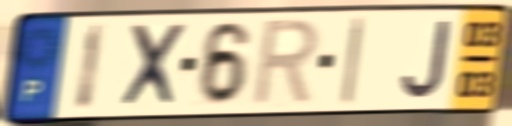6: (192, 20, 258, 110)
I: (73, 21, 108, 114), (338, 14, 368, 108)
J: (399, 17, 454, 102)
R: (247, 15, 323, 111)
X: (118, 21, 190, 111)
